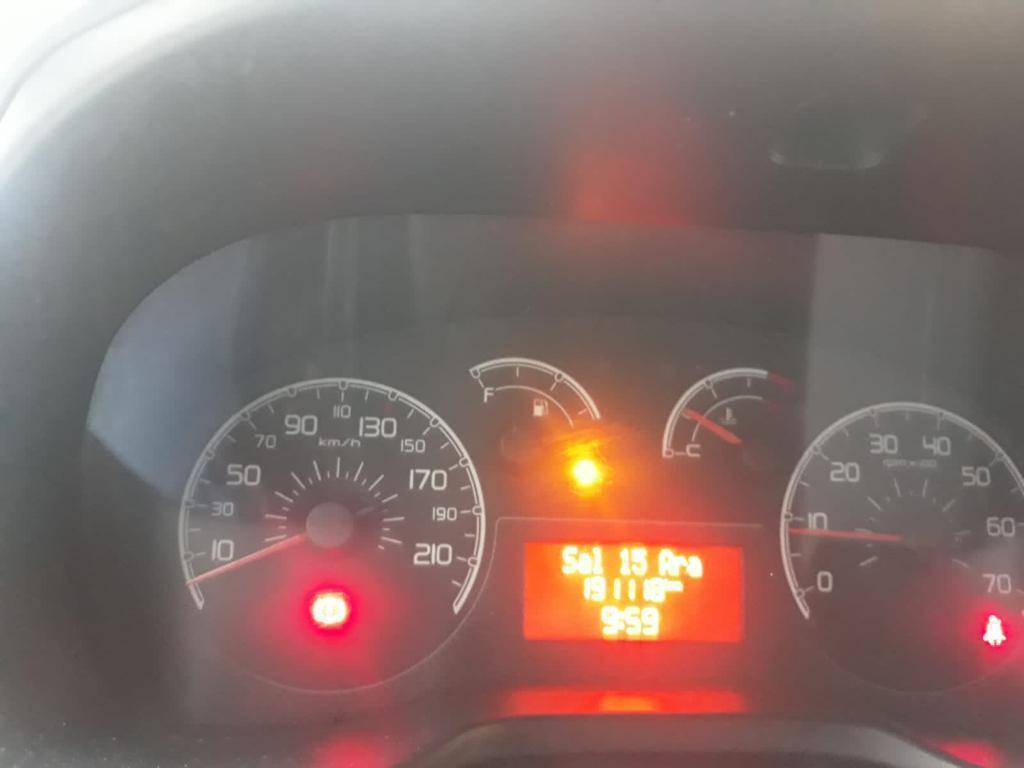1: (619, 546, 629, 576), (611, 574, 620, 604), (583, 577, 592, 603), (627, 578, 637, 601), (641, 578, 650, 603)
5: (625, 605, 640, 637), (631, 546, 647, 574)
8: (651, 576, 663, 603)
9: (641, 606, 659, 637), (600, 605, 617, 637), (591, 576, 606, 603)
X: (657, 545, 674, 578), (560, 544, 577, 573), (687, 553, 705, 578), (591, 544, 605, 576), (578, 552, 591, 575), (673, 554, 686, 577), (617, 609, 624, 632)
odometer: (523, 540, 748, 645)
